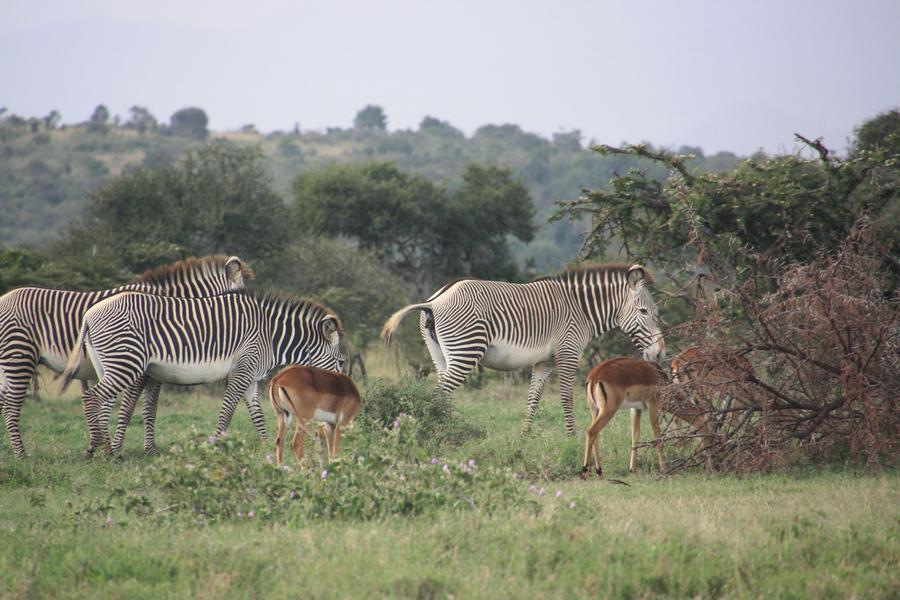zebra_grevys: (421, 263, 590, 359)
